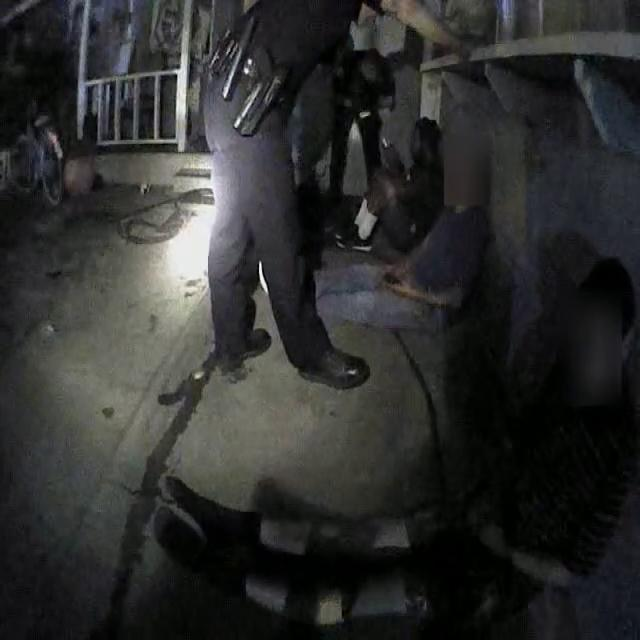gun: (223, 37, 294, 143)
